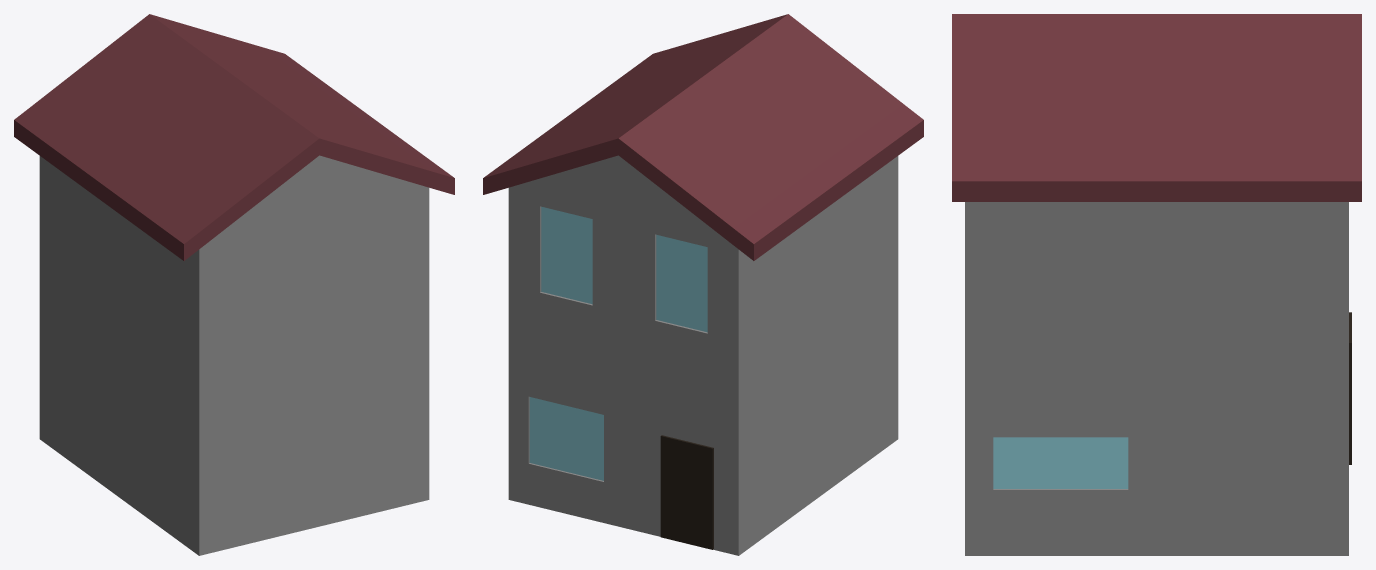
File: TallHouse.fbx
The picture shows the model from 3 angles, left to right: view 1: azimuth 30°, elevation 25°; view 2: azimuth 150°, elevation 25°; view 3: azimuth 270°, elevation 25°; orthographic projection. The views are drawn at different scales.
Visible parts, largest first — view 1: TallHouse; view 2: TallHouse; view 3: TallHouse.
Part boxes in pixels (x1=…): TallHouse: x1=14, y1=14, x2=454, y2=555; TallHouse: x1=483, y1=14, x2=923, y2=555; TallHouse: x1=952, y1=14, x2=1361, y2=555.
Size of the model in its own units: 589 by 817 by 640.
